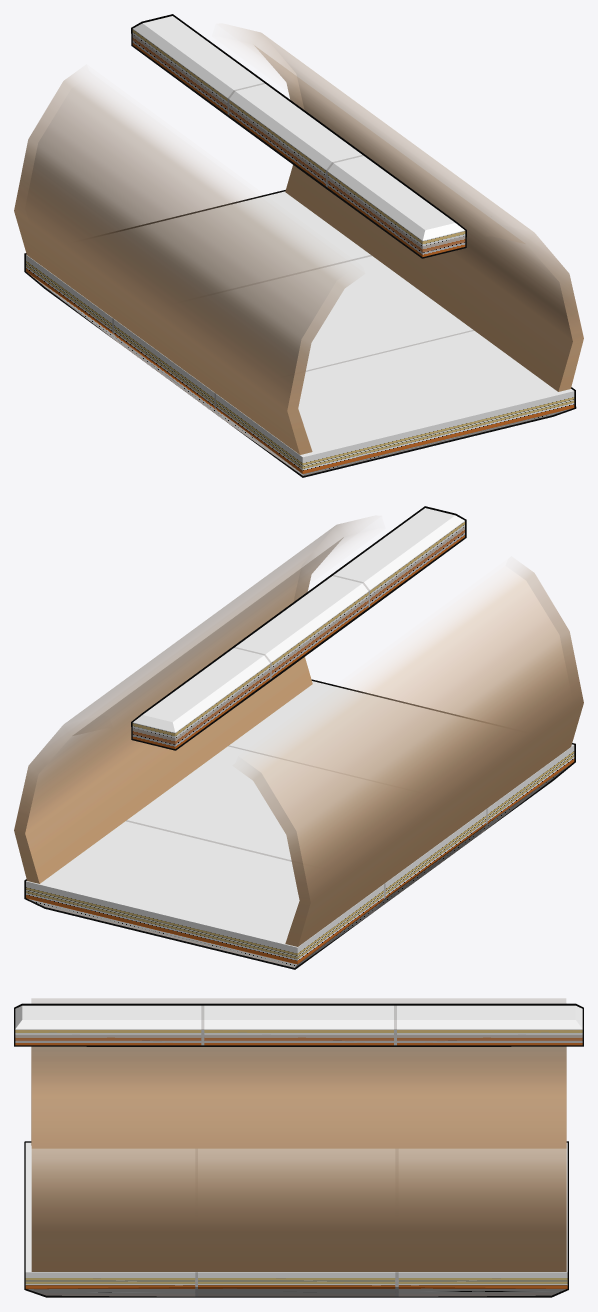
File: pm-sci-fi-bridge.glb
The picture shows the model from 3 angles, top to bottom: view 1: azimuth 30°, elevation 25°; view 2: azimuth 150°, elevation 25°; view 3: azimuth 270°, elevation 25°; orthographic projection. The views are drawn at different scales.
Parts seen in each view (by area): view 1: SciFi_Bridge; view 2: SciFi_Bridge; view 3: SciFi_Bridge.
Part boxes in pixels (x1,y1,x2,y2): SciFi_Bridge: (14, 14, 583, 477); SciFi_Bridge: (14, 506, 583, 969); SciFi_Bridge: (14, 998, 583, 1297).
Bounding box in the file's own units: 6.01 × 4.48 × 10.21.
4 materials, 3 textured.
